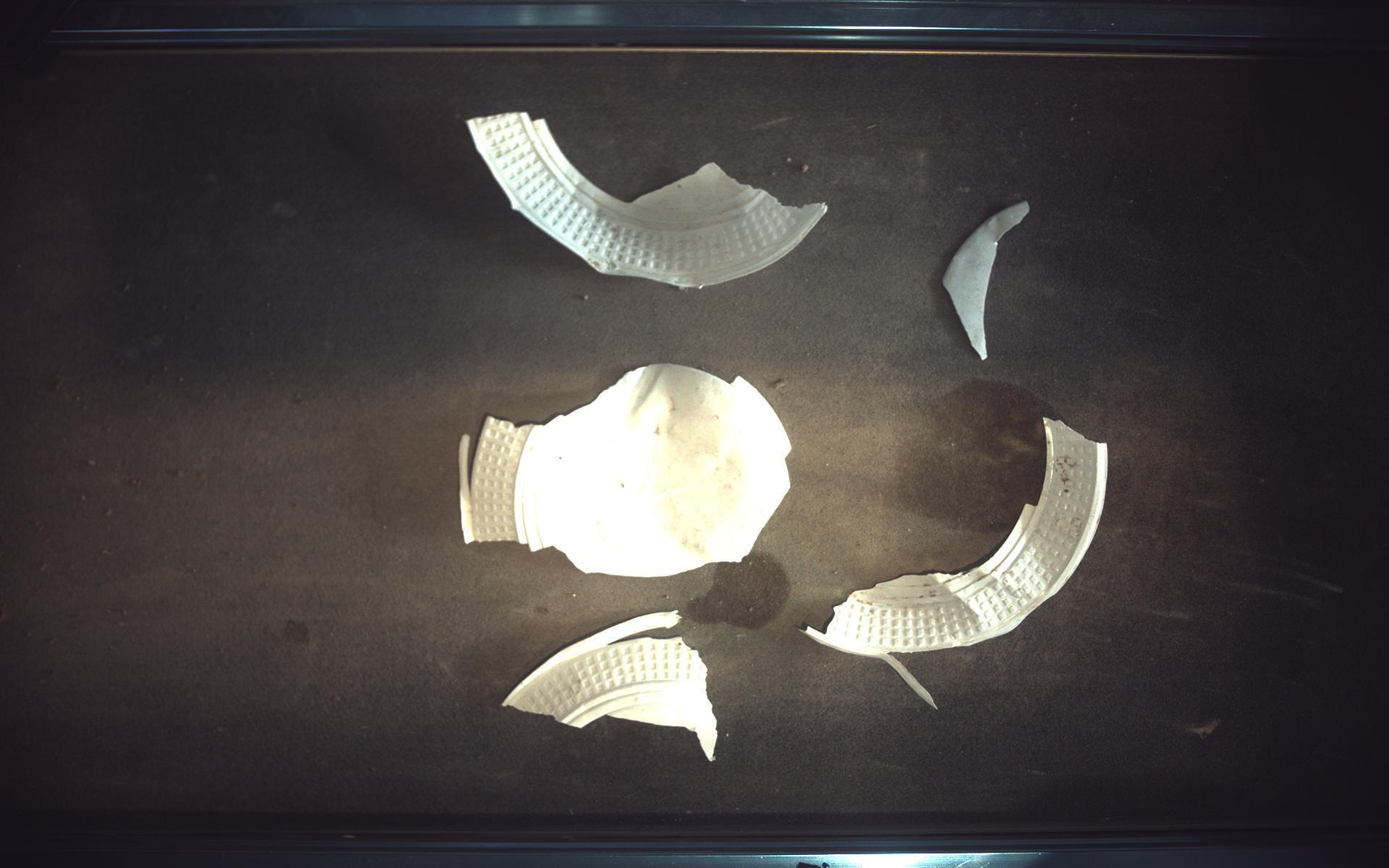general_w: (807, 418, 1110, 707), (459, 364, 792, 577), (467, 111, 828, 287), (504, 611, 718, 761), (945, 200, 1032, 359)
